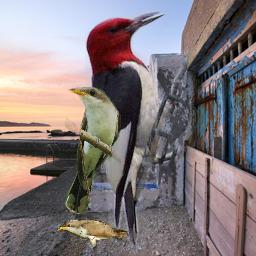Cuckoo: (65, 87, 121, 214), (56, 219, 130, 254)
Woodpecker: (85, 10, 187, 254)
